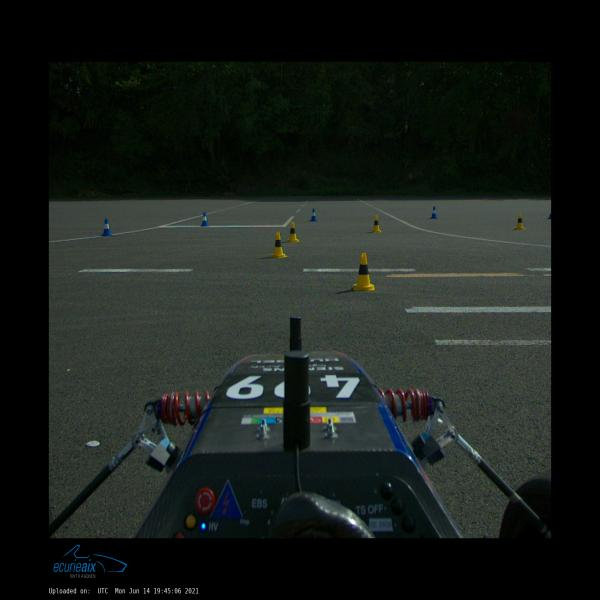blue_cone: (100, 218, 114, 236), (200, 212, 210, 226), (430, 206, 438, 219), (310, 209, 318, 222)
yellow_cone: (353, 253, 375, 291), (269, 232, 288, 258), (286, 222, 300, 242), (514, 213, 526, 230), (370, 216, 382, 232)
